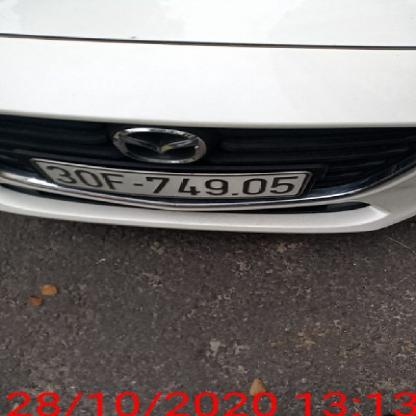biensoxe: (37, 156, 310, 198)
